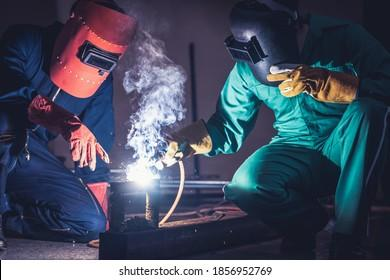gloves: (29, 94, 111, 172), (267, 64, 359, 105), (150, 118, 214, 169)
